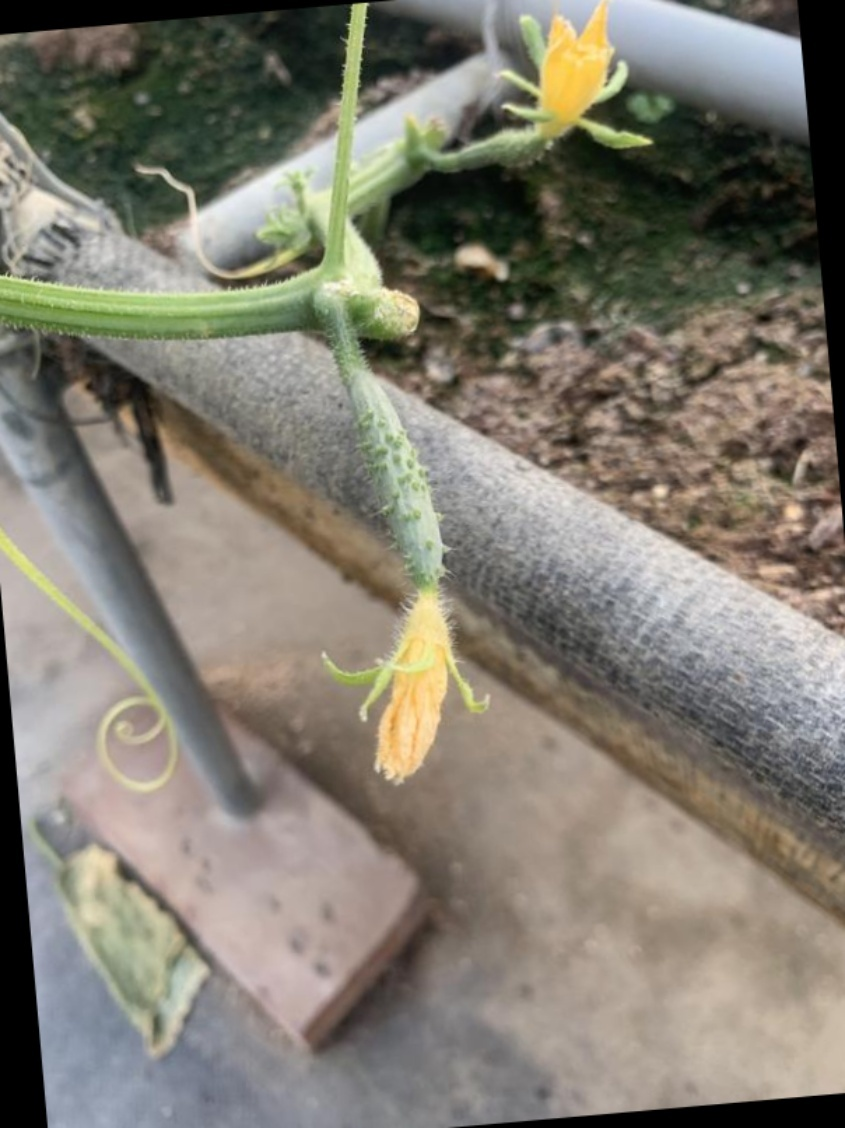bear: (447, 3, 646, 184)
